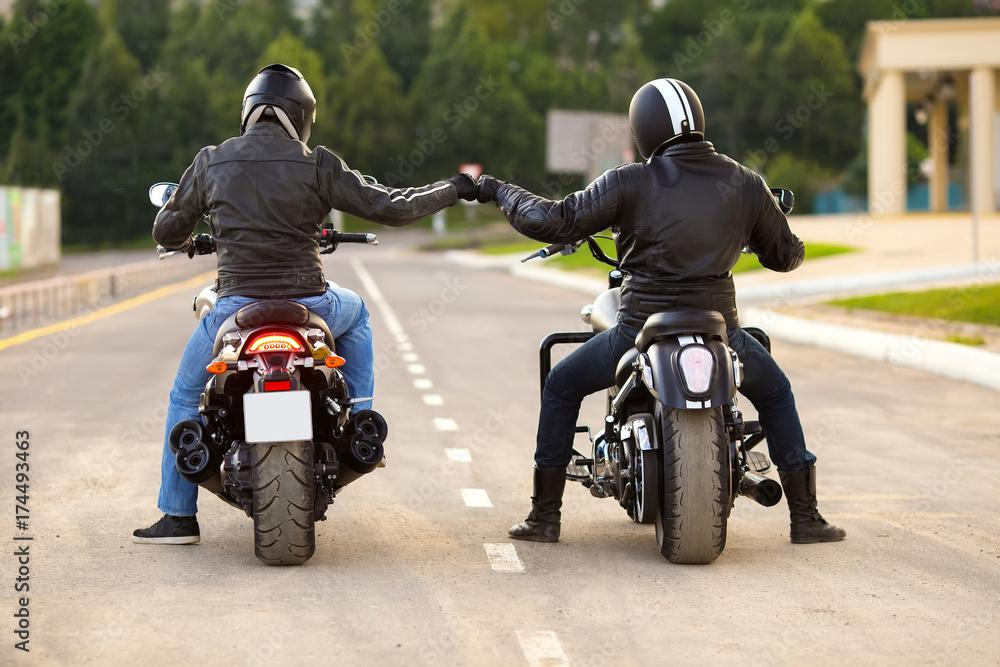helmet: (240, 62, 317, 152), (628, 76, 707, 163)
